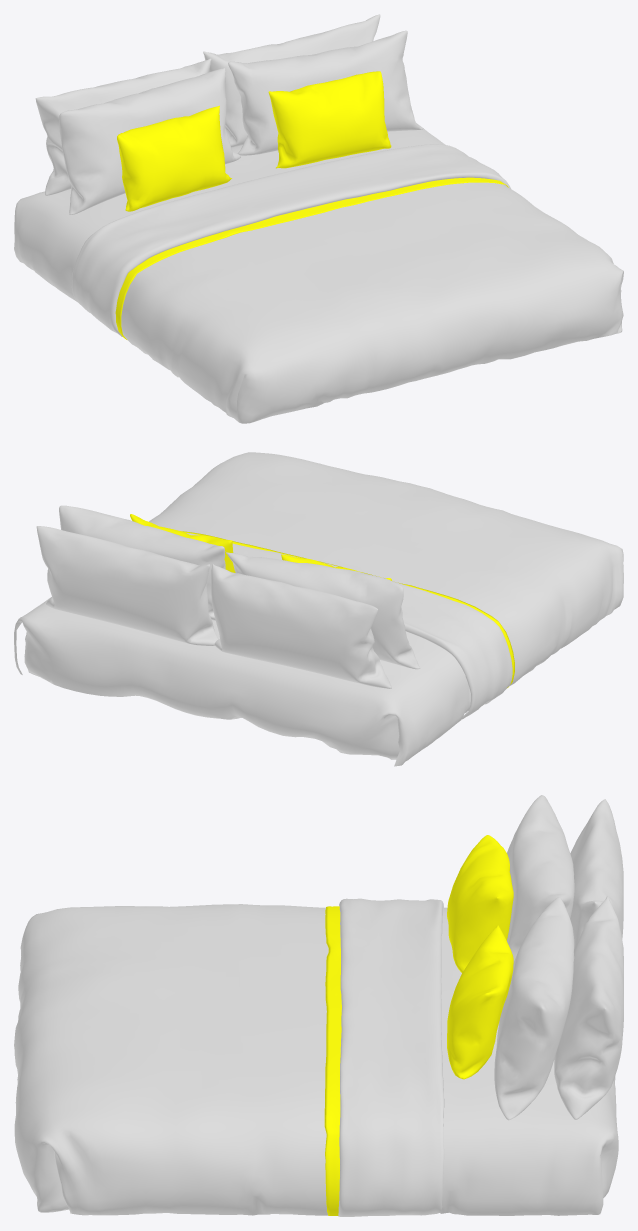
The model's file is SM_Bed.glb.
3 renders of one model, top to bottom at view 1: azimuth 30°, elevation 25°; view 2: azimuth 150°, elevation 25°; view 3: azimuth 270°, elevation 25°, orthographic. The views are drawn at different scales.
Parts seen in each view (by area): view 1: SM_Bed; view 2: SM_Bed; view 3: SM_Bed.
Part boxes in pixels (left/top/right/bottom): SM_Bed: left=14, top=14, right=623, bottom=423; SM_Bed: left=14, top=452, right=623, bottom=766; SM_Bed: left=14, top=795, right=623, bottom=1216.
Size of the model in its own units: 2.07 by 0.7828 by 2.12.
2 materials, 1 textured.
